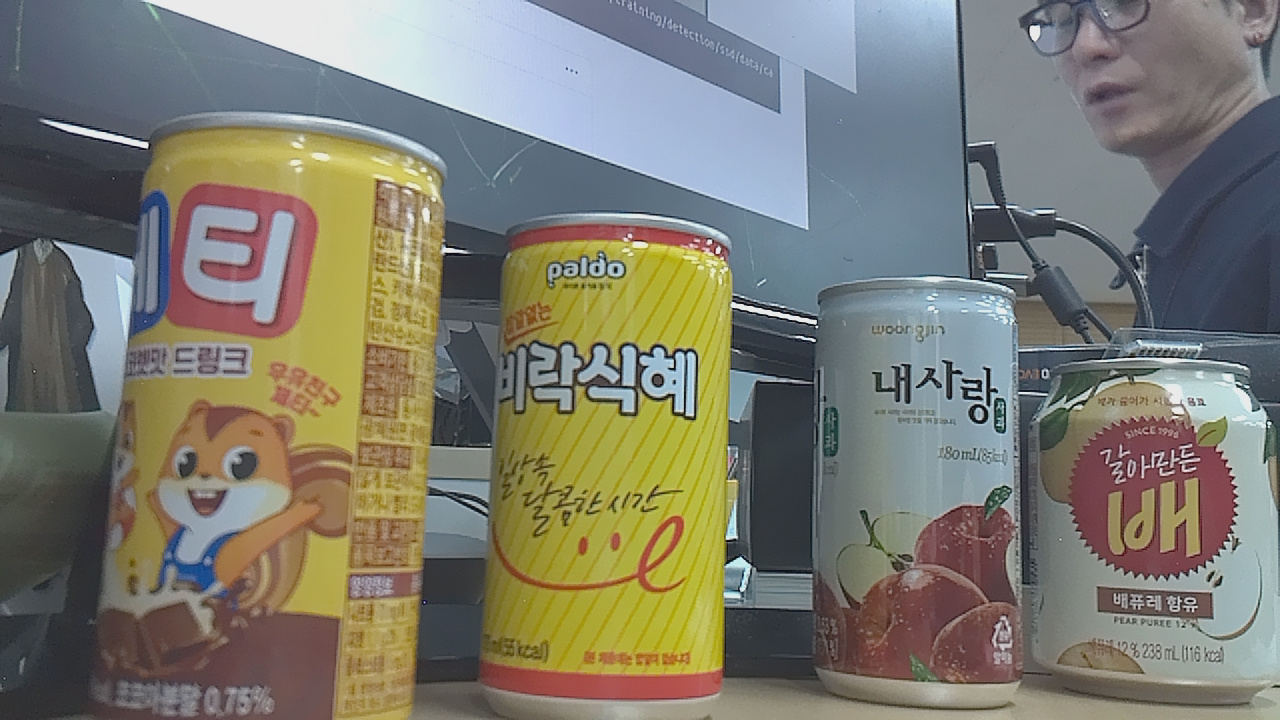IdH (pear juice): (1036, 352, 1280, 717)
jetty: (90, 104, 458, 720)
mylove apple: (812, 268, 1030, 719)
paldo shikhye: (473, 196, 747, 720)
